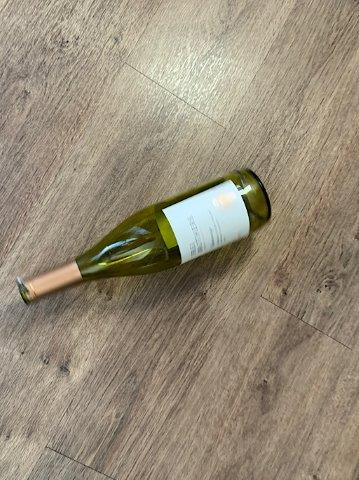botolkaca: (18, 170, 271, 304)
